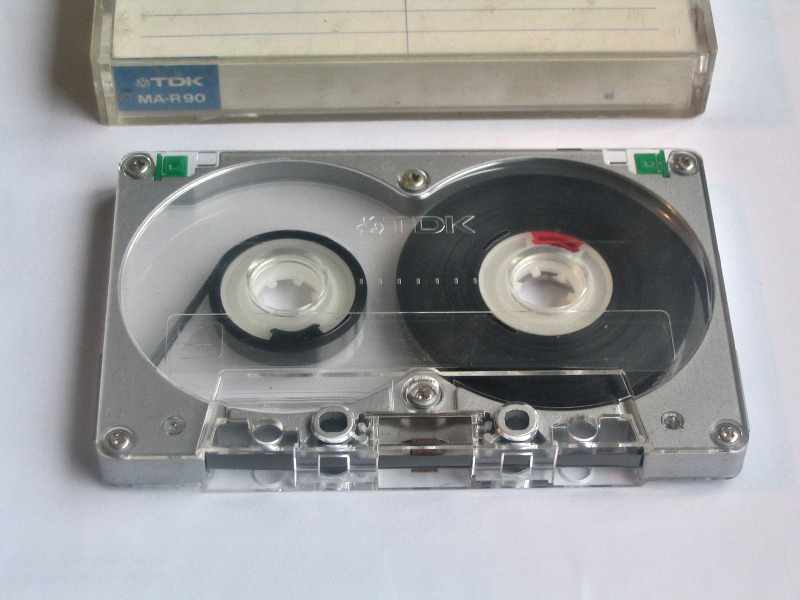Nonrec_Other: (85, 129, 757, 510)
